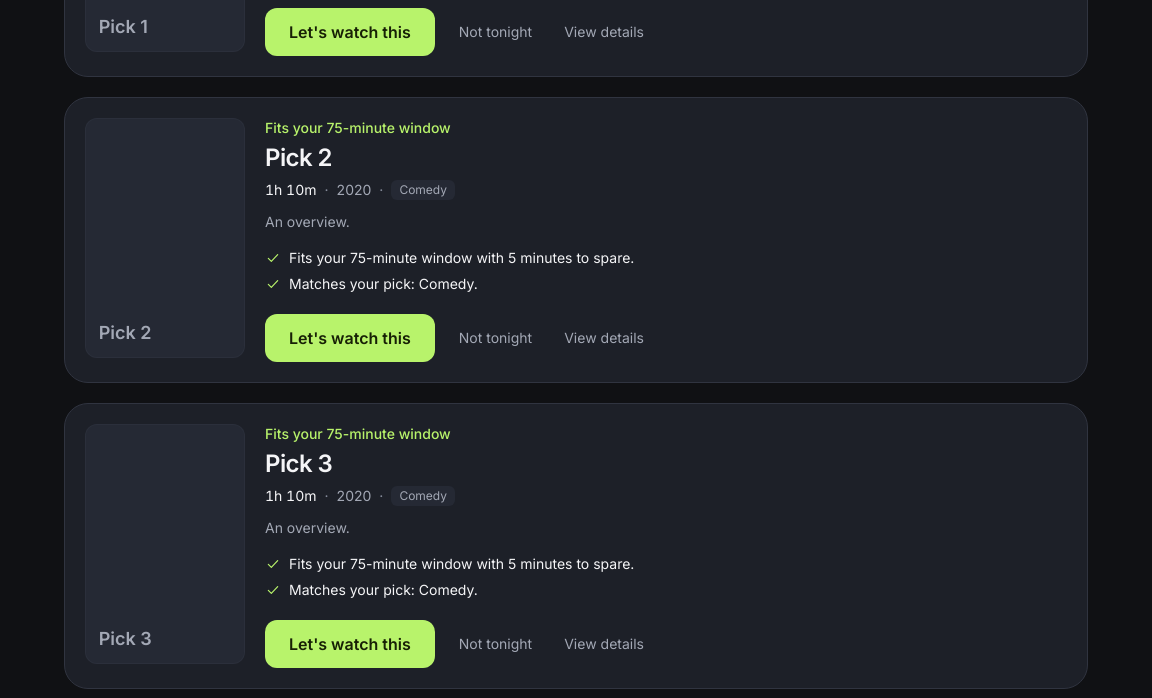
Scenario: fills a "Not tonight" gap with the next-ranked pick
(page scrolled)
Check: the heading "Pick 2" is shown, box [265, 143, 332, 172]
Click the 2nd button "Not tonight" at (496, 338), box [443, 318, 548, 358]
(page scrolled)
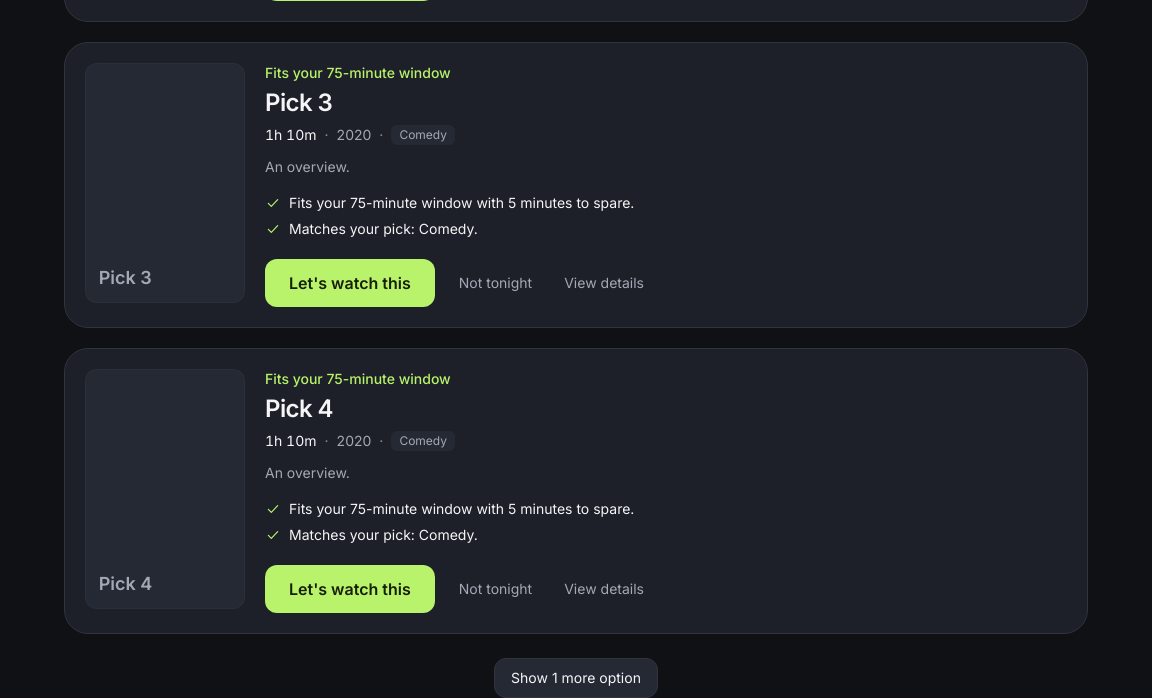
Check: the button "Show 1 more option" is shown, box [494, 658, 658, 697]
